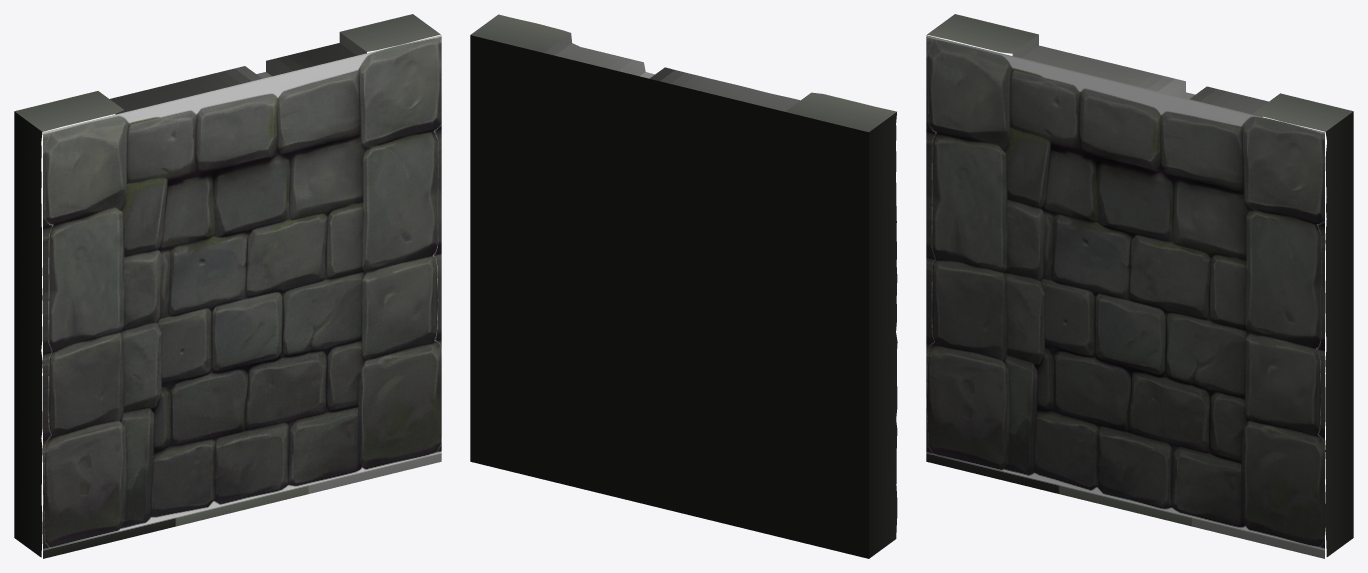
Rendered from wall_plain2.glb.
3 views of the same model, side by side, from view 1: azimuth 30°, elevation 25°; view 2: azimuth 150°, elevation 25°; view 3: azimuth 330°, elevation 25° (orthographic).
Parts seen in each view (by area): view 1: wall_plain2; view 2: wall_plain2; view 3: wall_plain2.
Boxes of the visible parts, x1,y1,x2,y2 form: wall_plain2: (14,14,441,558); wall_plain2: (470,14,897,558); wall_plain2: (926,14,1353,558).
Size of the model in its own units: 2 by 2.05 by 0.25.
1 material, 1 textured.
